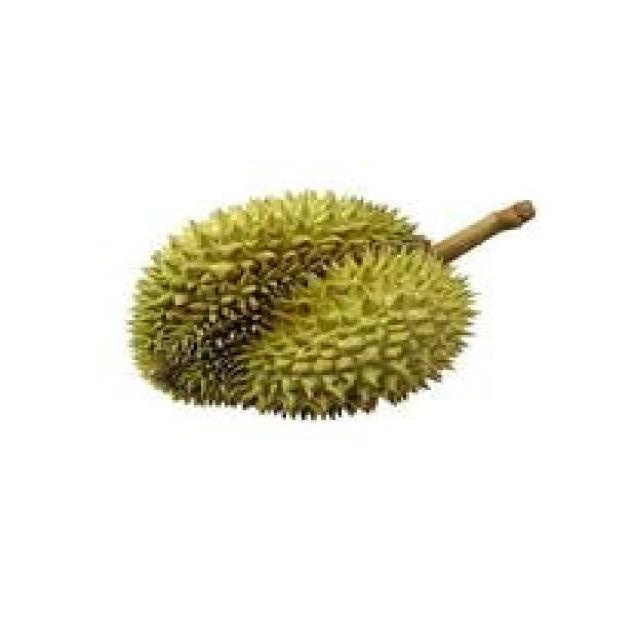agrume: (98, 170, 495, 448)
